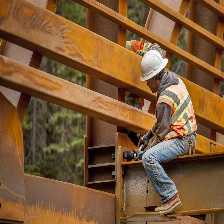helmet: (139, 50, 169, 85)
person: (140, 48, 198, 215)
vest: (159, 74, 194, 145)
